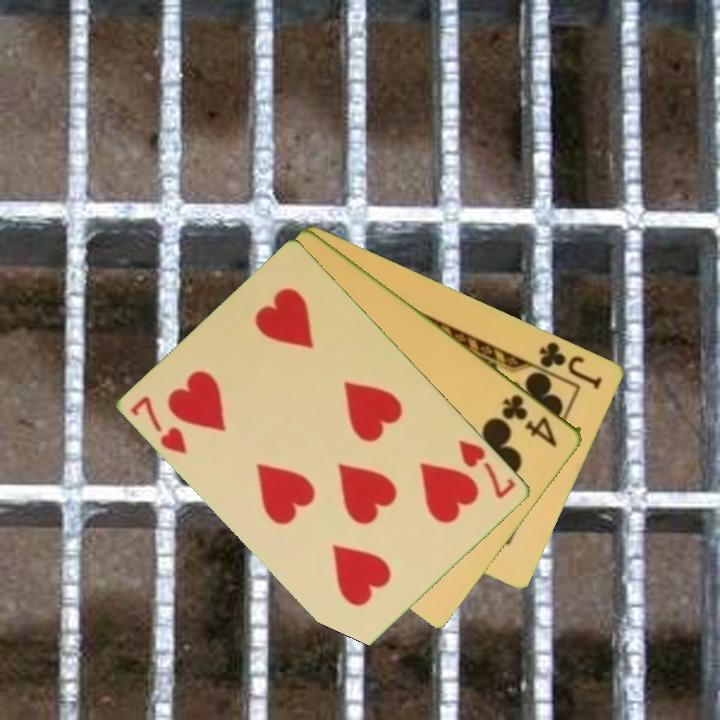4c: (498, 390, 561, 450)
7h: (455, 436, 520, 502), (127, 392, 191, 457)
Jc: (527, 338, 606, 392)
